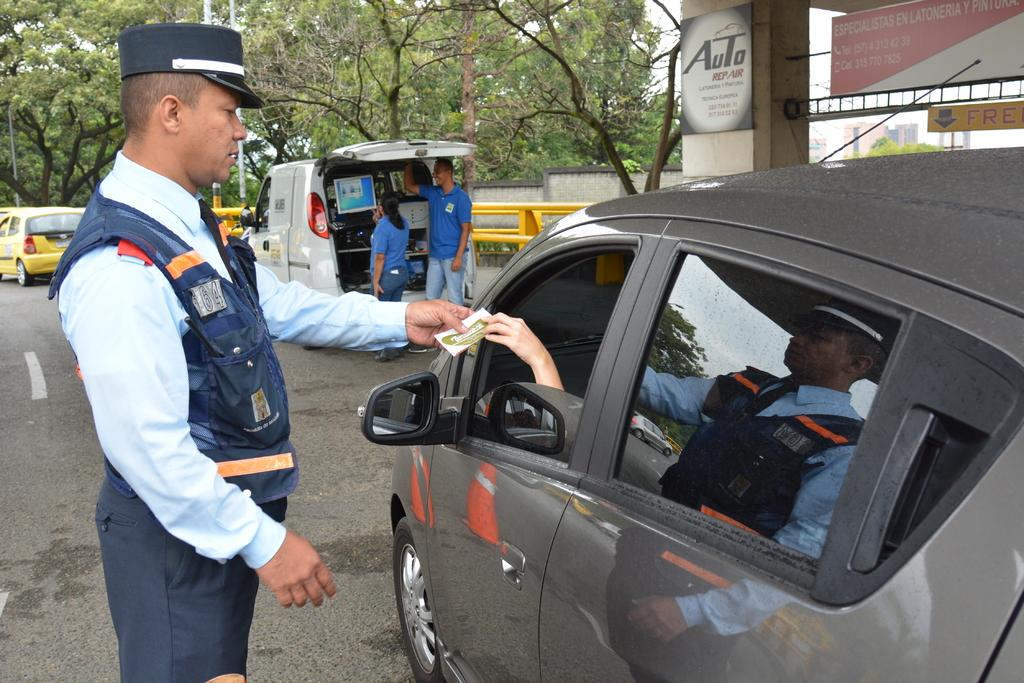Hat: (114, 22, 264, 107)
